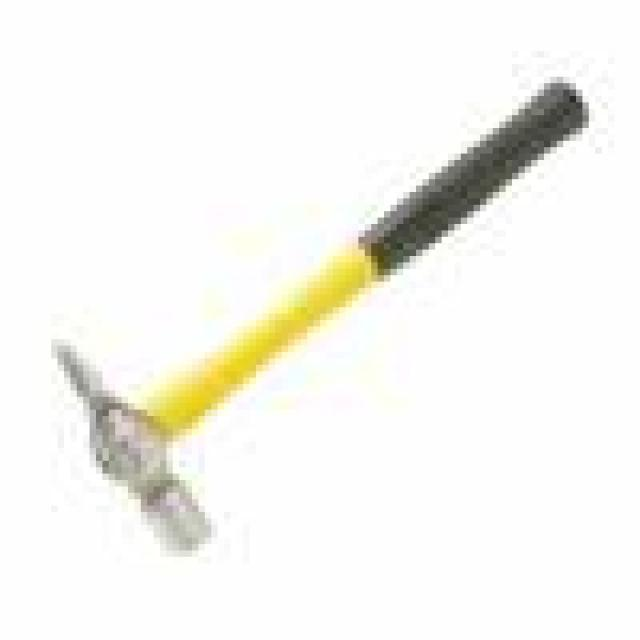hammer: (32, 66, 602, 568)
